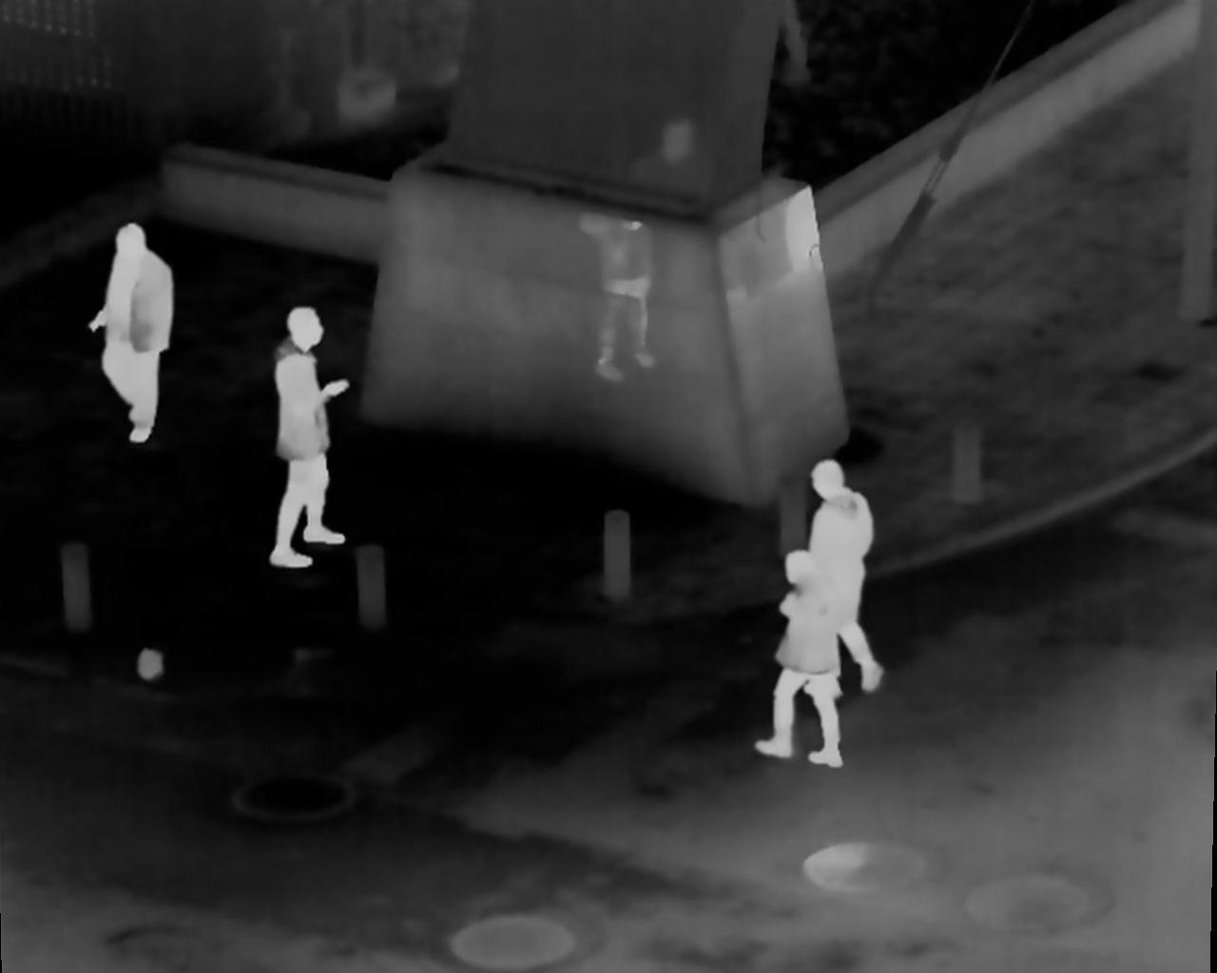person: (753, 550, 860, 759), (272, 305, 356, 564), (87, 218, 182, 432), (810, 463, 885, 683)
